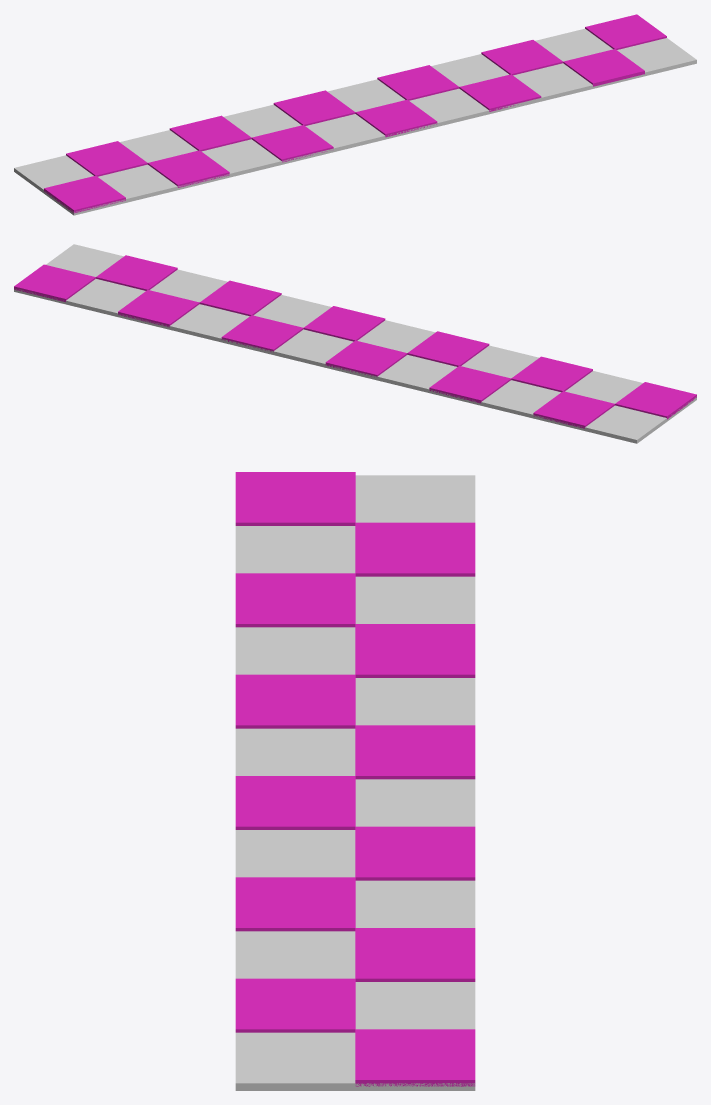
Rendered from finish .fbx.
The picture shows the model from 3 angles, top to bottom: view 1: azimuth 30°, elevation 25°; view 2: azimuth 150°, elevation 25°; view 3: azimuth 270°, elevation 25°; orthographic projection. The views are drawn at different scales.
Visible parts, largest first — view 1: Cube.003, Cube; view 2: Cube.003, Cube; view 3: Cube.003, Cube.
Boxes of the visible parts, x1,y1,x2,y2 form: Cube.003: (44,14,666,213); Cube: (14,28,696,215); Cube.003: (14,255,696,428); Cube: (14,244,696,443); Cube.003: (235,472,475,1086); Cube: (235,475,475,1090).
Size of the model in its own units: 2400 by 19.99 by 400.
